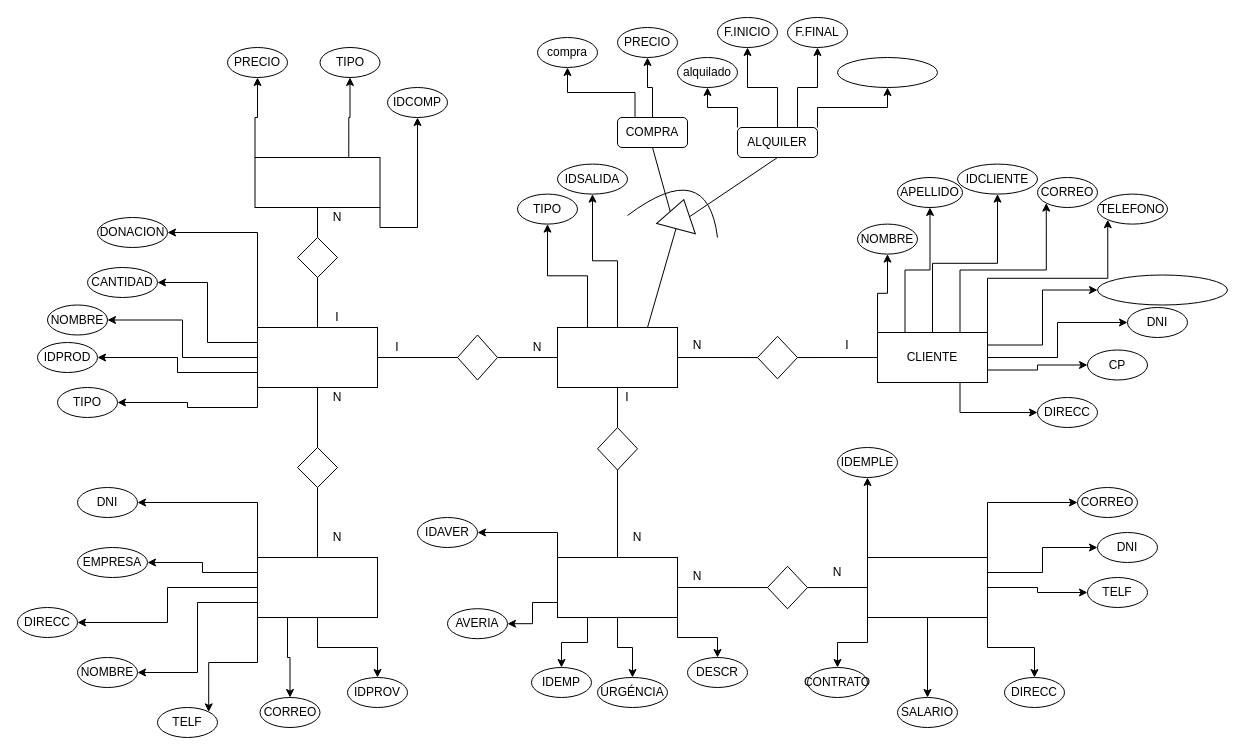
The diagram is 1245 pixels wide and 755 high, and some of its shapes have lost their labels. Here are the shapes that lost their labels. From the top down, the centre of each, then its label:
pixel 887 72: MENSUALIDAD
pixel 317 182: ESPECIFICACIONES
pixel 1162 289: DATOSBANCARIOS
pixel 317 357: PRODUCTO
pixel 617 357: SALIDAS
pixel 317 587: PROVEDOR
pixel 617 587: AVERIES
pixel 927 587: EMPLEADOS
